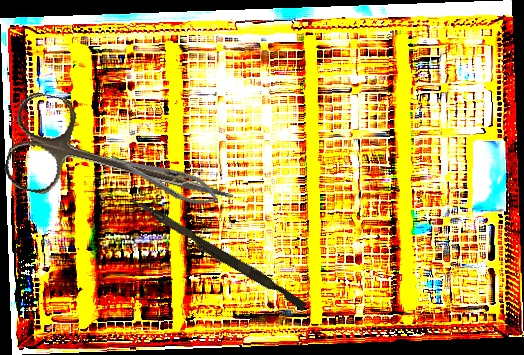Iris Scissors: (0, 88, 247, 240)
Needle Holder: (105, 143, 224, 214)
Pusher: (127, 197, 310, 311)
